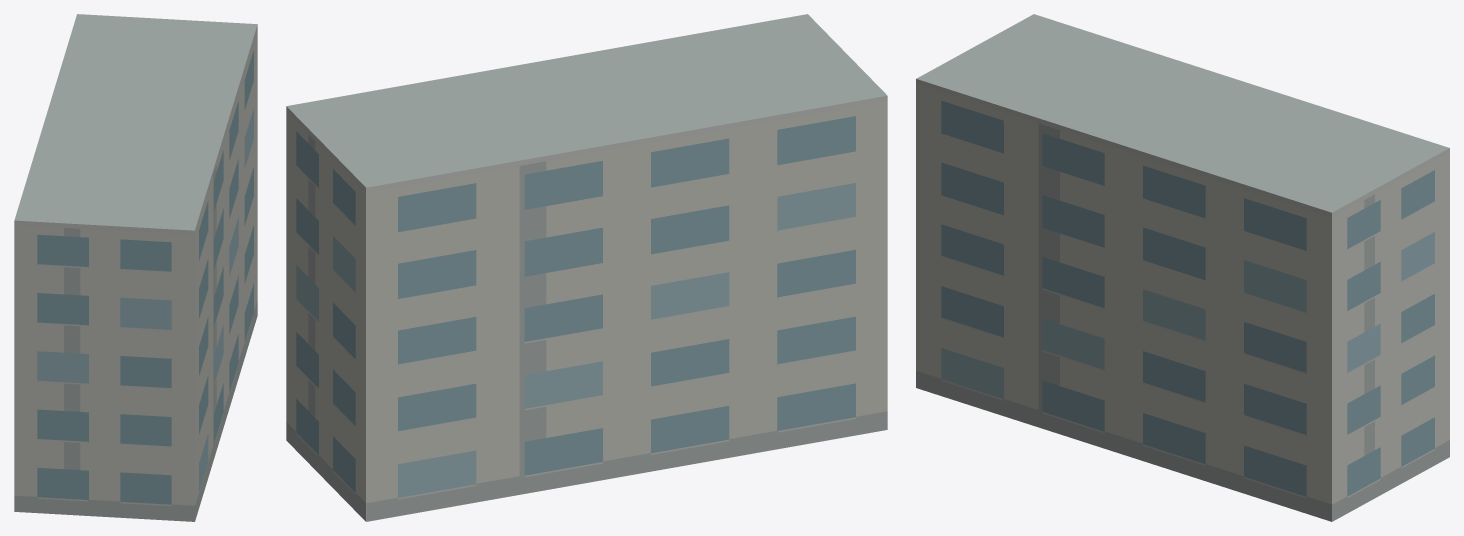
The model's file is survey-upis-32768397.glb.
The picture shows the model from 3 angles, left to right: view 1: azimuth 30°, elevation 25°; view 2: azimuth 150°, elevation 25°; view 3: azimuth 270°, elevation 25°; orthographic projection. The views are drawn at different scales.
Parts seen in each view (by area): view 1: survey-upis-32768397.tmp; view 2: survey-upis-32768397.tmp; view 3: survey-upis-32768397.tmp.
Boxes of the visible parts, x1,y1,x2,y2 form: survey-upis-32768397.tmp: (14,14,257,521); survey-upis-32768397.tmp: (286,14,887,521); survey-upis-32768397.tmp: (916,14,1449,521).
Size of the model in its own units: 21.03 by 15.25 by 23.87.
